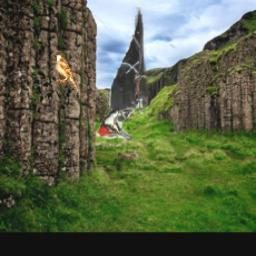Sparrow: (53, 51, 79, 94)
Woodpecker: (97, 3, 149, 141)
